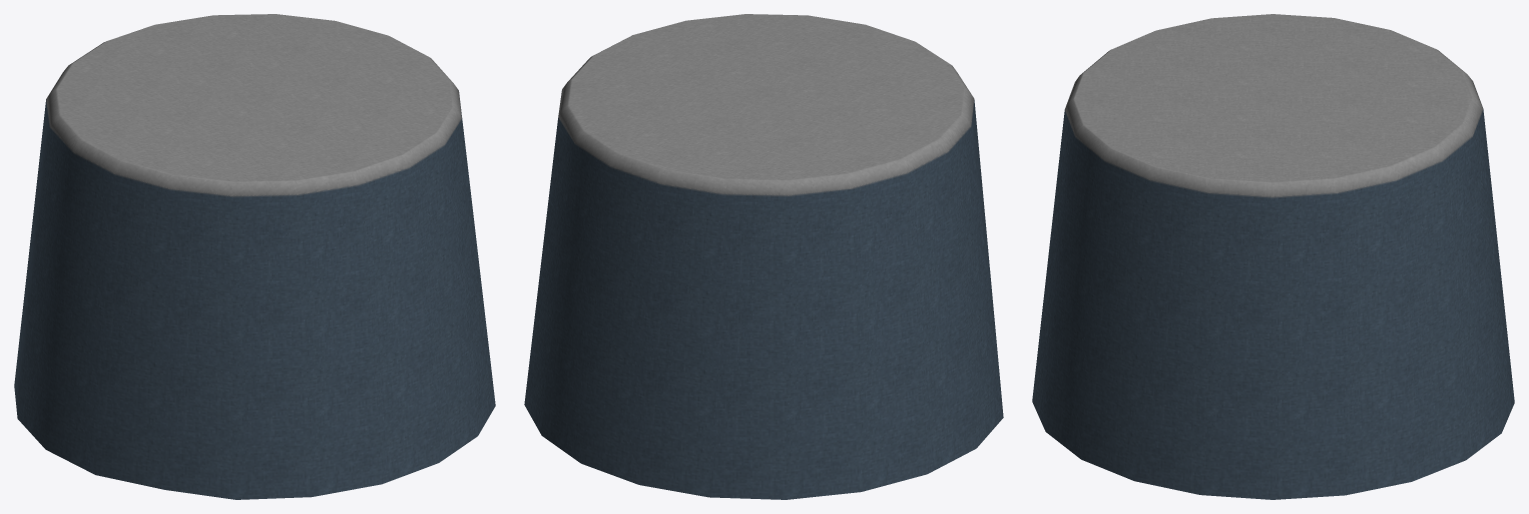
File: Ottom.fbx
3 views of the same model, side by side, from view 1: azimuth 30°, elevation 25°; view 2: azimuth 150°, elevation 25°; view 3: azimuth 270°, elevation 25° (orthographic).
Visible parts, largest first — view 1: Ottom1; view 2: Ottom1; view 3: Ottom1.
Part boxes in pixels (x1,y1,x2,y2): Ottom1: (14,14,495,499); Ottom1: (524,14,1003,499); Ottom1: (1032,14,1514,499).
Bounding box in the file's own units: 55.8 × 38.6 × 55.58.
